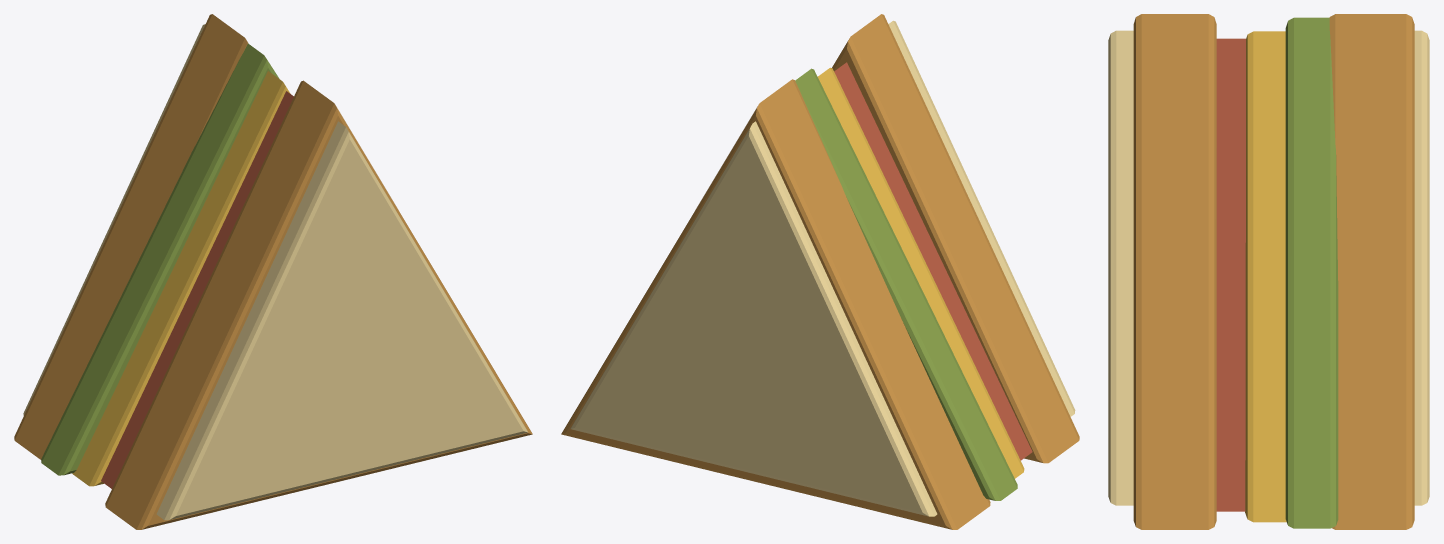
File: snack.glb
3 views of the same model, side by side, from view 1: azimuth 30°, elevation 25°; view 2: azimuth 150°, elevation 25°; view 3: azimuth 270°, elevation 25° (orthographic). The views are drawn at different scales.
Parts seen in each view (by area): view 1: Sandwich_front_bread, Sandwich_front_crust, Sandwich_back_crust, Sandwich_lettuce, Sandwich_cheese, Sandwich_tomato, Sandwich_back_bread; view 2: Sandwich_back_bread, Sandwich_back_crust, Sandwich_front_crust, Sandwich_lettuce, Sandwich_cheese, Sandwich_tomato, Sandwich_front_bread; view 3: Sandwich_front_crust, Sandwich_back_crust, Sandwich_lettuce, Sandwich_cheese, Sandwich_tomato, Sandwich_front_bread, Sandwich_back_bread.
Part boxes in pixels (x1=…): Sandwich_front_bread: x1=156, y1=121, x2=527, y2=520; Sandwich_front_crust: x1=105, y1=80, x2=532, y2=529; Sandwich_back_crust: x1=14, y1=14, x2=248, y2=459; Sandwich_lettuce: x1=41, y1=43, x2=279, y2=475; Sandwich_cheese: x1=72, y1=71, x2=290, y2=486; Sandwich_tomato: x1=101, y1=91, x2=293, y2=488; Sandwich_back_bread: x1=23, y1=24, x2=205, y2=415; Sandwich_back_bread: x1=570, y1=121, x2=937, y2=516; Sandwich_back_crust: x1=561, y1=79, x2=990, y2=529; Sandwich_front_crust: x1=832, y1=14, x2=1079, y2=463; Sandwich_lettuce: x1=795, y1=68, x2=1017, y2=500; Sandwich_cheese: x1=818, y1=67, x2=1024, y2=478; Sandwich_tomato: x1=834, y1=62, x2=1032, y2=460; Sandwich_front_bread: x1=888, y1=20, x2=1075, y2=416; Sandwich_front_crust: x1=1133, y1=14, x2=1216, y2=529; Sandwich_back_crust: x1=1329, y1=14, x2=1414, y2=529; Sandwich_lettuce: x1=1285, y1=17, x2=1338, y2=528; Sandwich_cheese: x1=1245, y1=31, x2=1286, y2=522; Sandwich_tomato: x1=1216, y1=38, x2=1245, y2=511; Sandwich_front_bread: x1=1108, y1=30, x2=1133, y2=505; Sandwich_back_bread: x1=1414, y1=30, x2=1429, y2=505.
Bounding box in the file's own units: 0.5096 × 0.4471 × 0.317.
